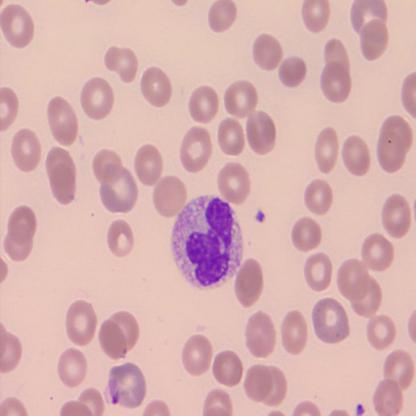Monocyte: (169, 192, 245, 292)
